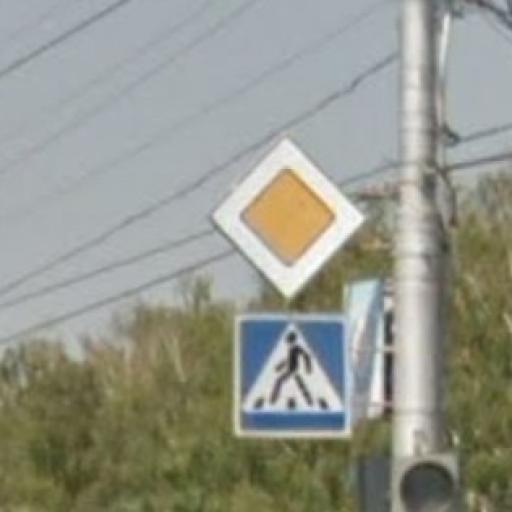traffic_sign: (212, 138, 369, 302), (234, 314, 353, 441)
